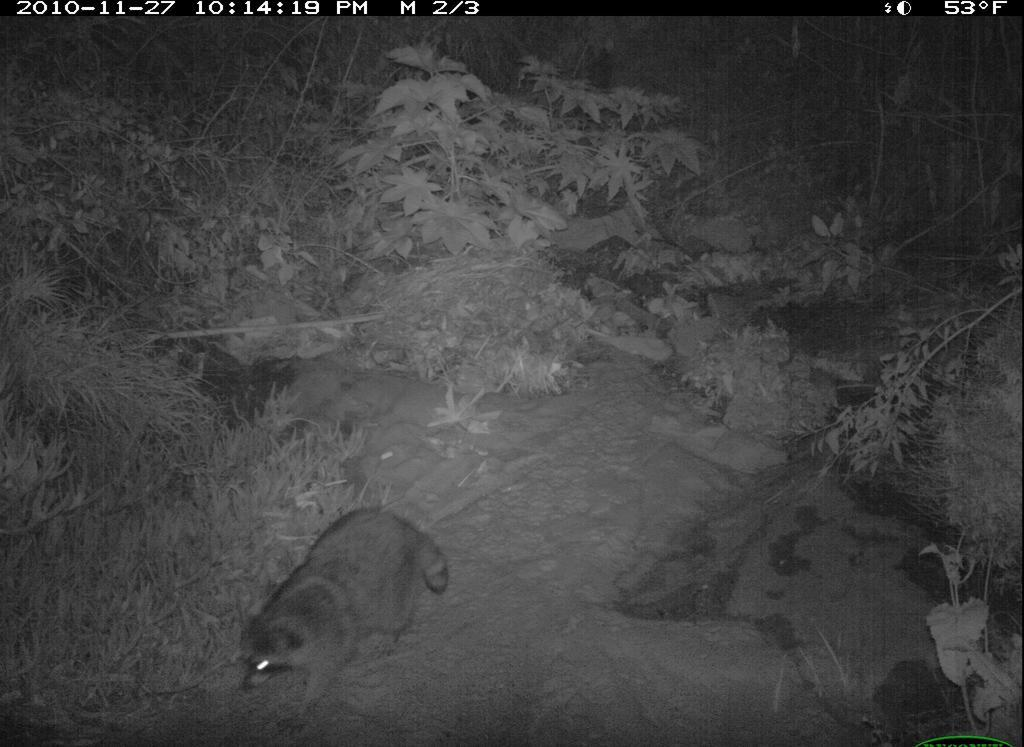raccoon: (221, 504, 483, 737)
